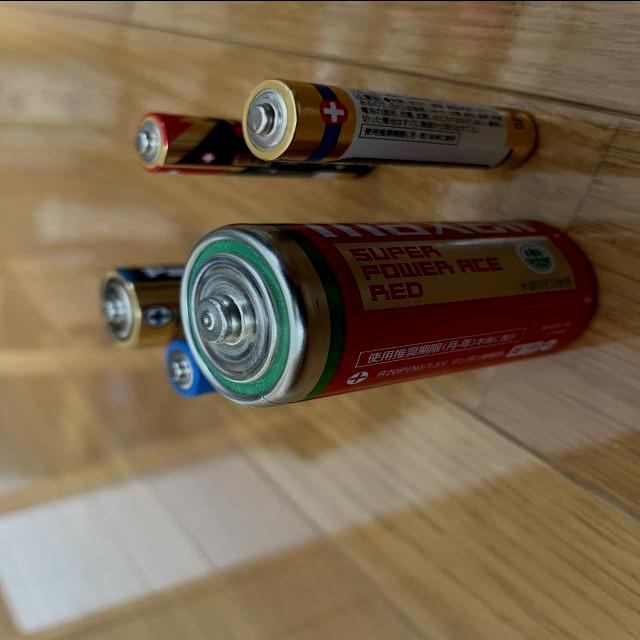AA: (236, 72, 549, 178)
